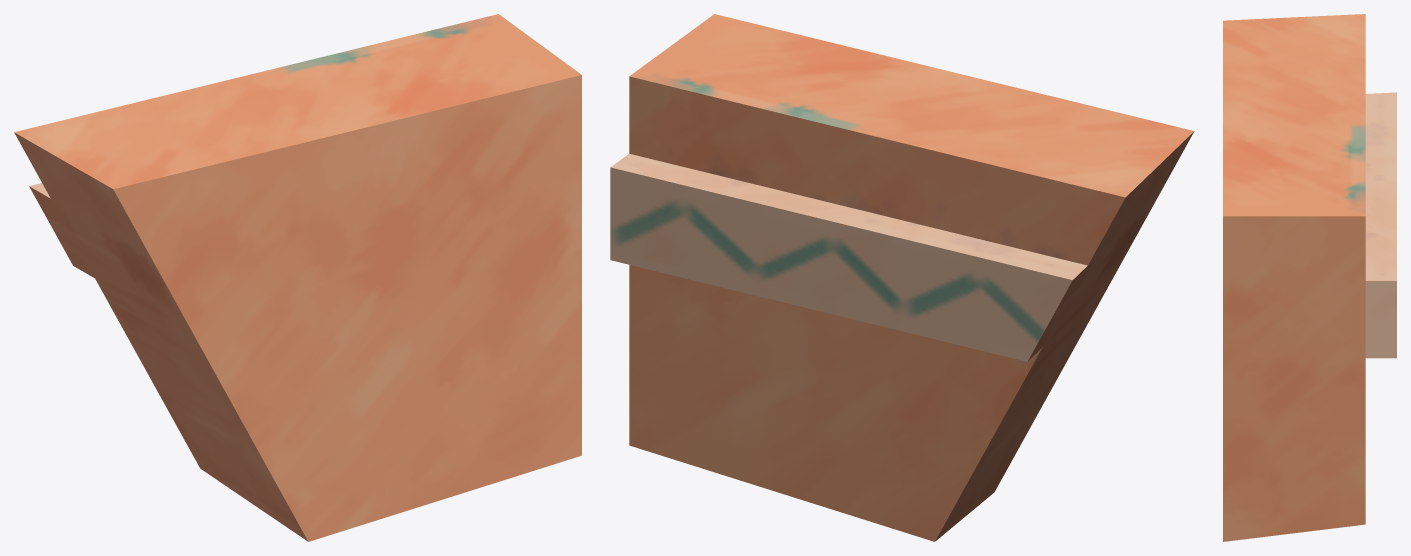
Rendered from wall2_door_s04.fbx.
3 renders of one model, left to right at view 1: azimuth 30°, elevation 25°; view 2: azimuth 150°, elevation 25°; view 3: azimuth 270°, elevation 25°, orthographic. The views are drawn at different scales.
Parts seen in each view (by area): view 1: wall2_door_s04; view 2: wall2_door_s04; view 3: wall2_door_s04.
Boxes of the visible parts, bbox=[...] form: wall2_door_s04: bbox=[14, 14, 581, 541]; wall2_door_s04: bbox=[610, 14, 1194, 541]; wall2_door_s04: bbox=[1223, 14, 1396, 541].
Bounding box in the file's own units: 3.36 × 2.65 × 1.22.
